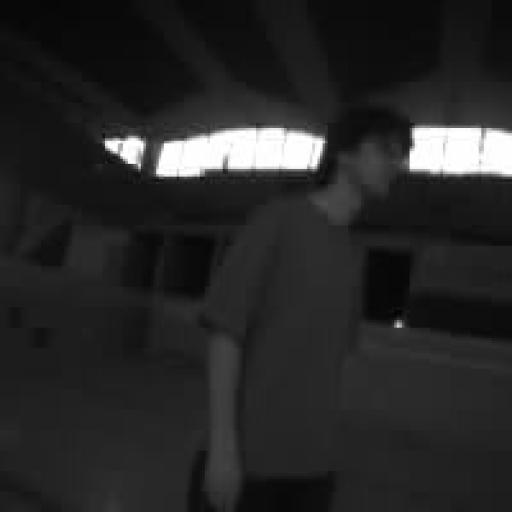human: (190, 105, 412, 511)
